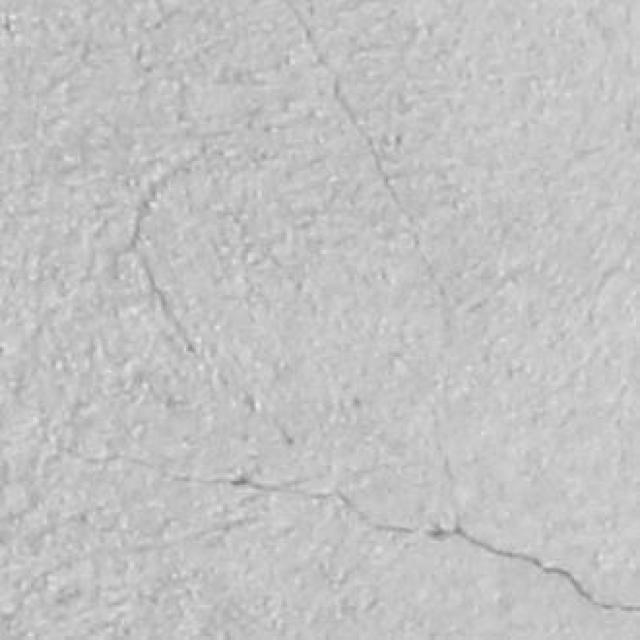crack: (72, 452, 639, 612), (282, 0, 451, 331), (233, 478, 639, 612), (447, 526, 639, 612)
